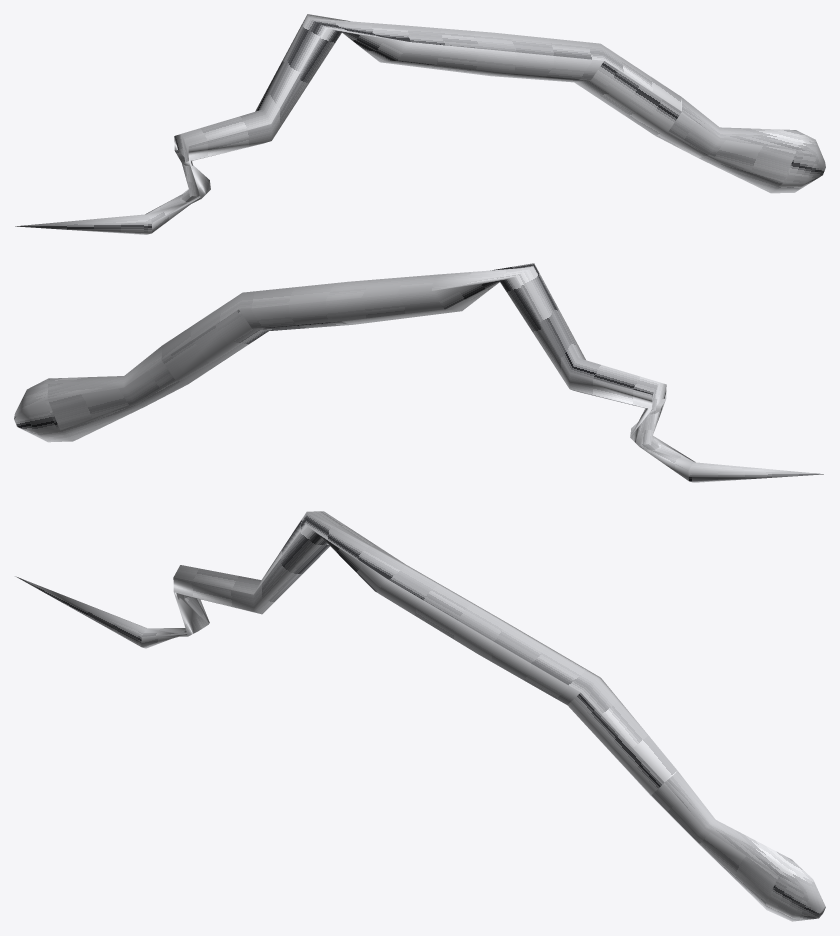
File: snake_000009.obj
The picture shows the model from 3 angles, top to bottom: view 1: azimuth 30°, elevation 25°; view 2: azimuth 150°, elevation 25°; view 3: azimuth 330°, elevation 25°; orthographic projection.
Parts seen in each view (by area): view 1: Cylinder; view 2: Cylinder; view 3: Cylinder.
Boxes of the visible parts, bbox=[...] form: Cylinder: bbox=[15, 14, 825, 234]; Cylinder: bbox=[14, 263, 823, 482]; Cylinder: bbox=[15, 511, 825, 921].
Size of the model in its own units: 8.46 by 2.92 by 0.3671.
